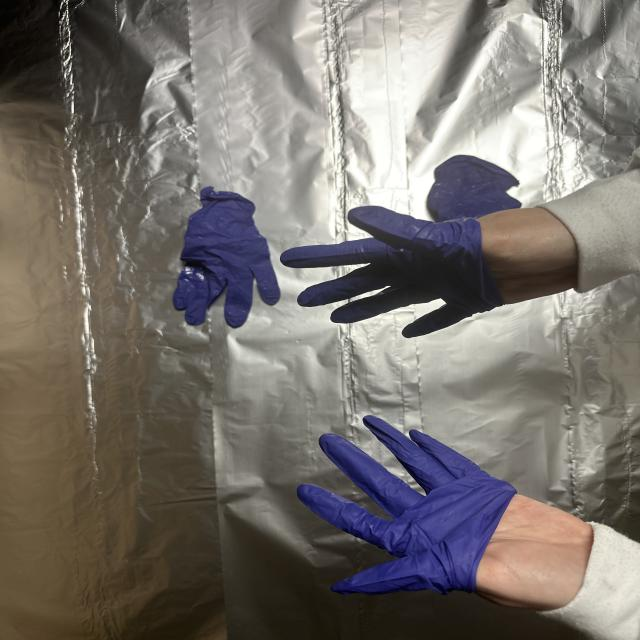glove_partial: (292, 412, 599, 618), (278, 201, 576, 339)
